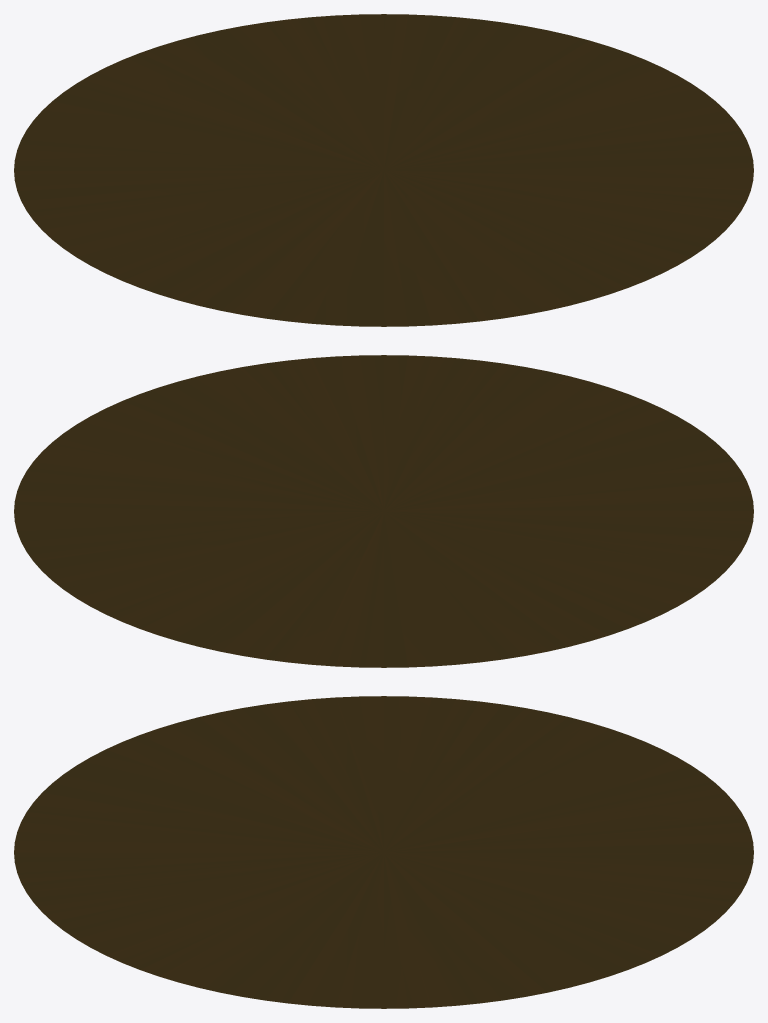
Rendered from SM_RV_WaterDisc.fbx.
The picture shows the model from 3 angles, top to bottom: view 1: azimuth 30°, elevation 25°; view 2: azimuth 150°, elevation 25°; view 3: azimuth 270°, elevation 25°; orthographic projection.
Visible parts, largest first — view 1: SM_RV_WaterDisc; view 2: SM_RV_WaterDisc; view 3: SM_RV_WaterDisc.
Boxes of the visible parts, x1,y1,x2,y2 form: SM_RV_WaterDisc: (14,14,753,326); SM_RV_WaterDisc: (14,355,753,667); SM_RV_WaterDisc: (14,696,753,1008).
Size of the model in its own units: 100 by 100 by 0.
